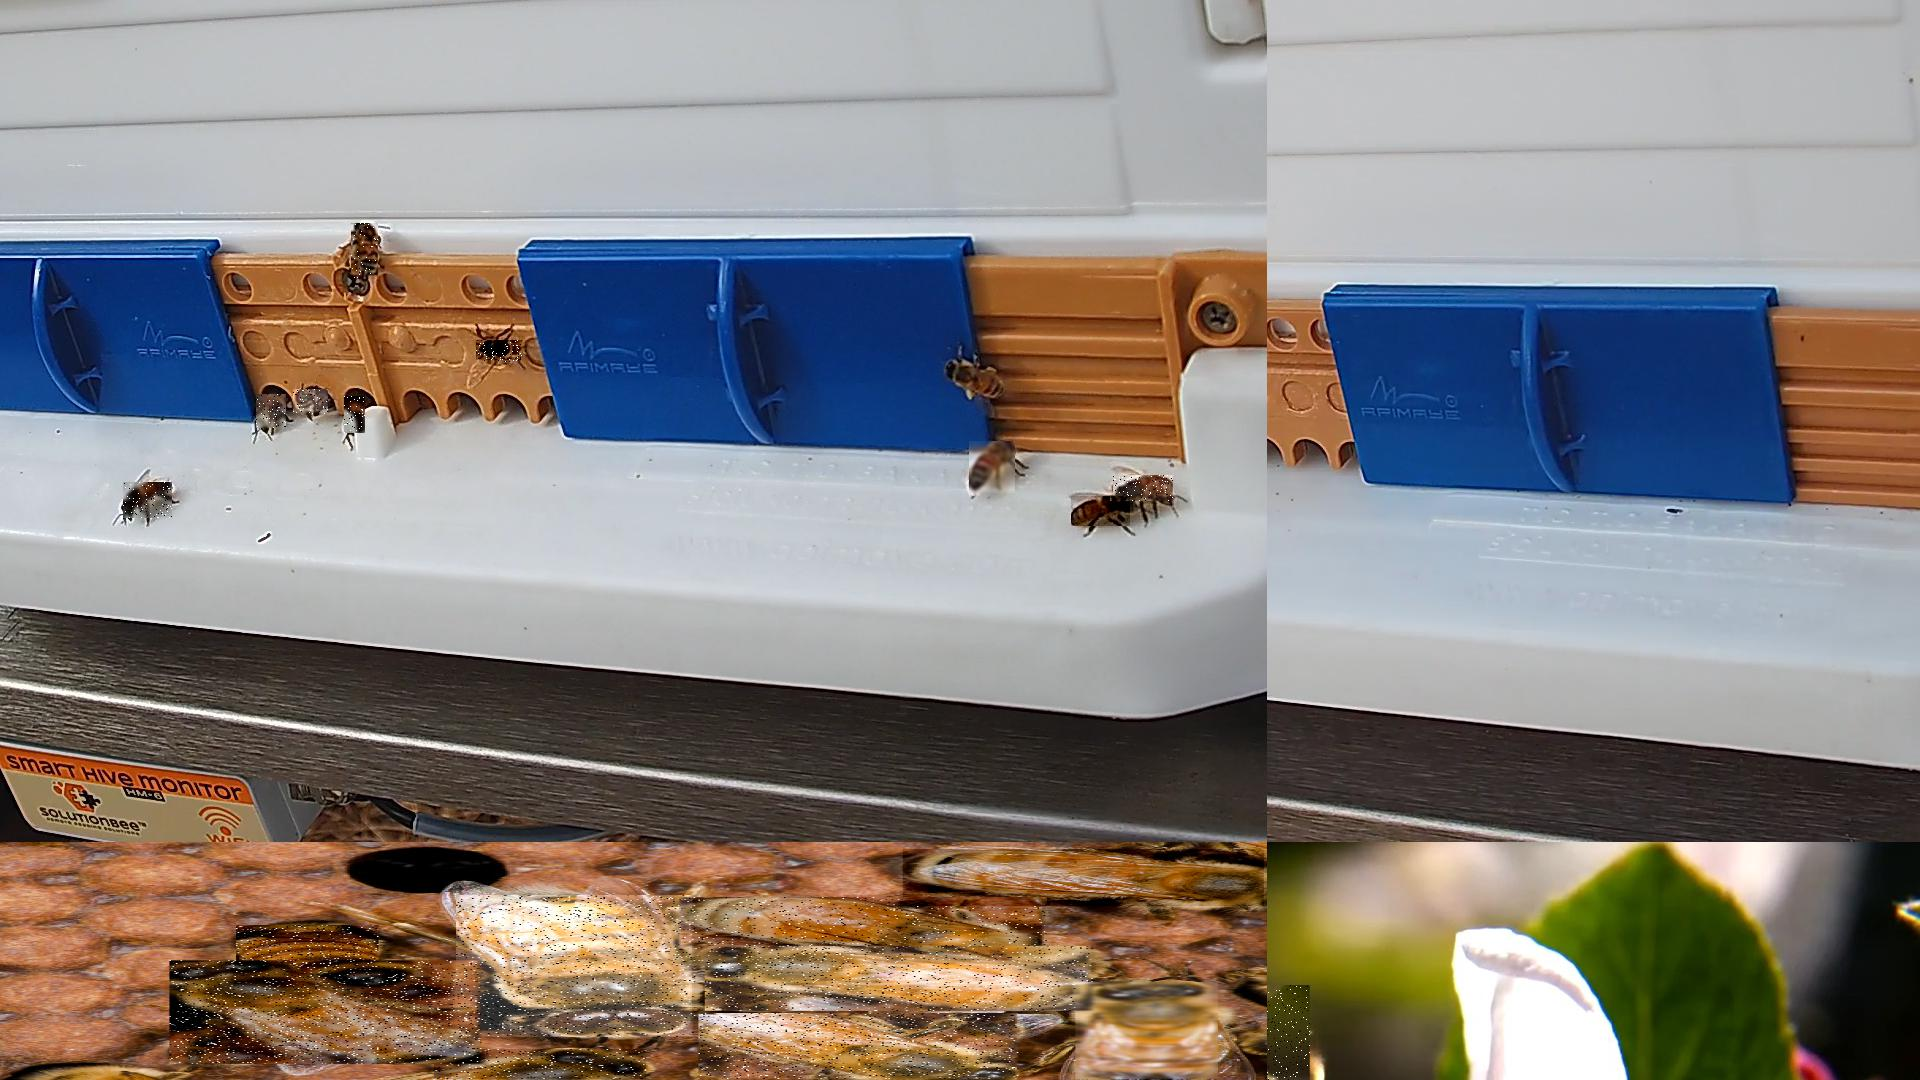bee: (170, 960, 485, 1064), (707, 945, 1096, 1011), (686, 897, 1050, 964), (699, 1013, 1019, 1080), (903, 849, 1265, 907), (1076, 982, 1220, 1080), (236, 924, 380, 986), (434, 1048, 647, 1080), (969, 442, 1017, 496), (1072, 496, 1134, 527), (124, 483, 173, 521), (1113, 475, 1175, 502), (351, 224, 378, 280), (256, 394, 287, 431), (476, 340, 524, 364), (293, 390, 328, 415), (344, 396, 367, 434)
drone: (458, 895, 698, 1036)
